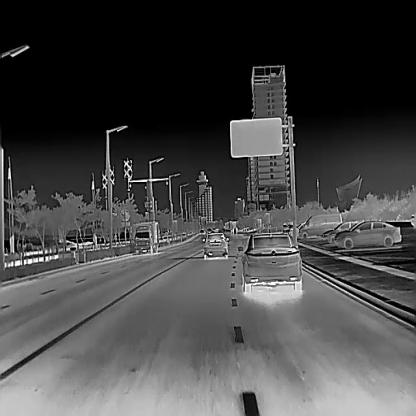car: (238, 231, 302, 291), (334, 220, 401, 247), (299, 212, 342, 236), (322, 221, 359, 241), (202, 232, 229, 258)
truck: (134, 220, 158, 254)
